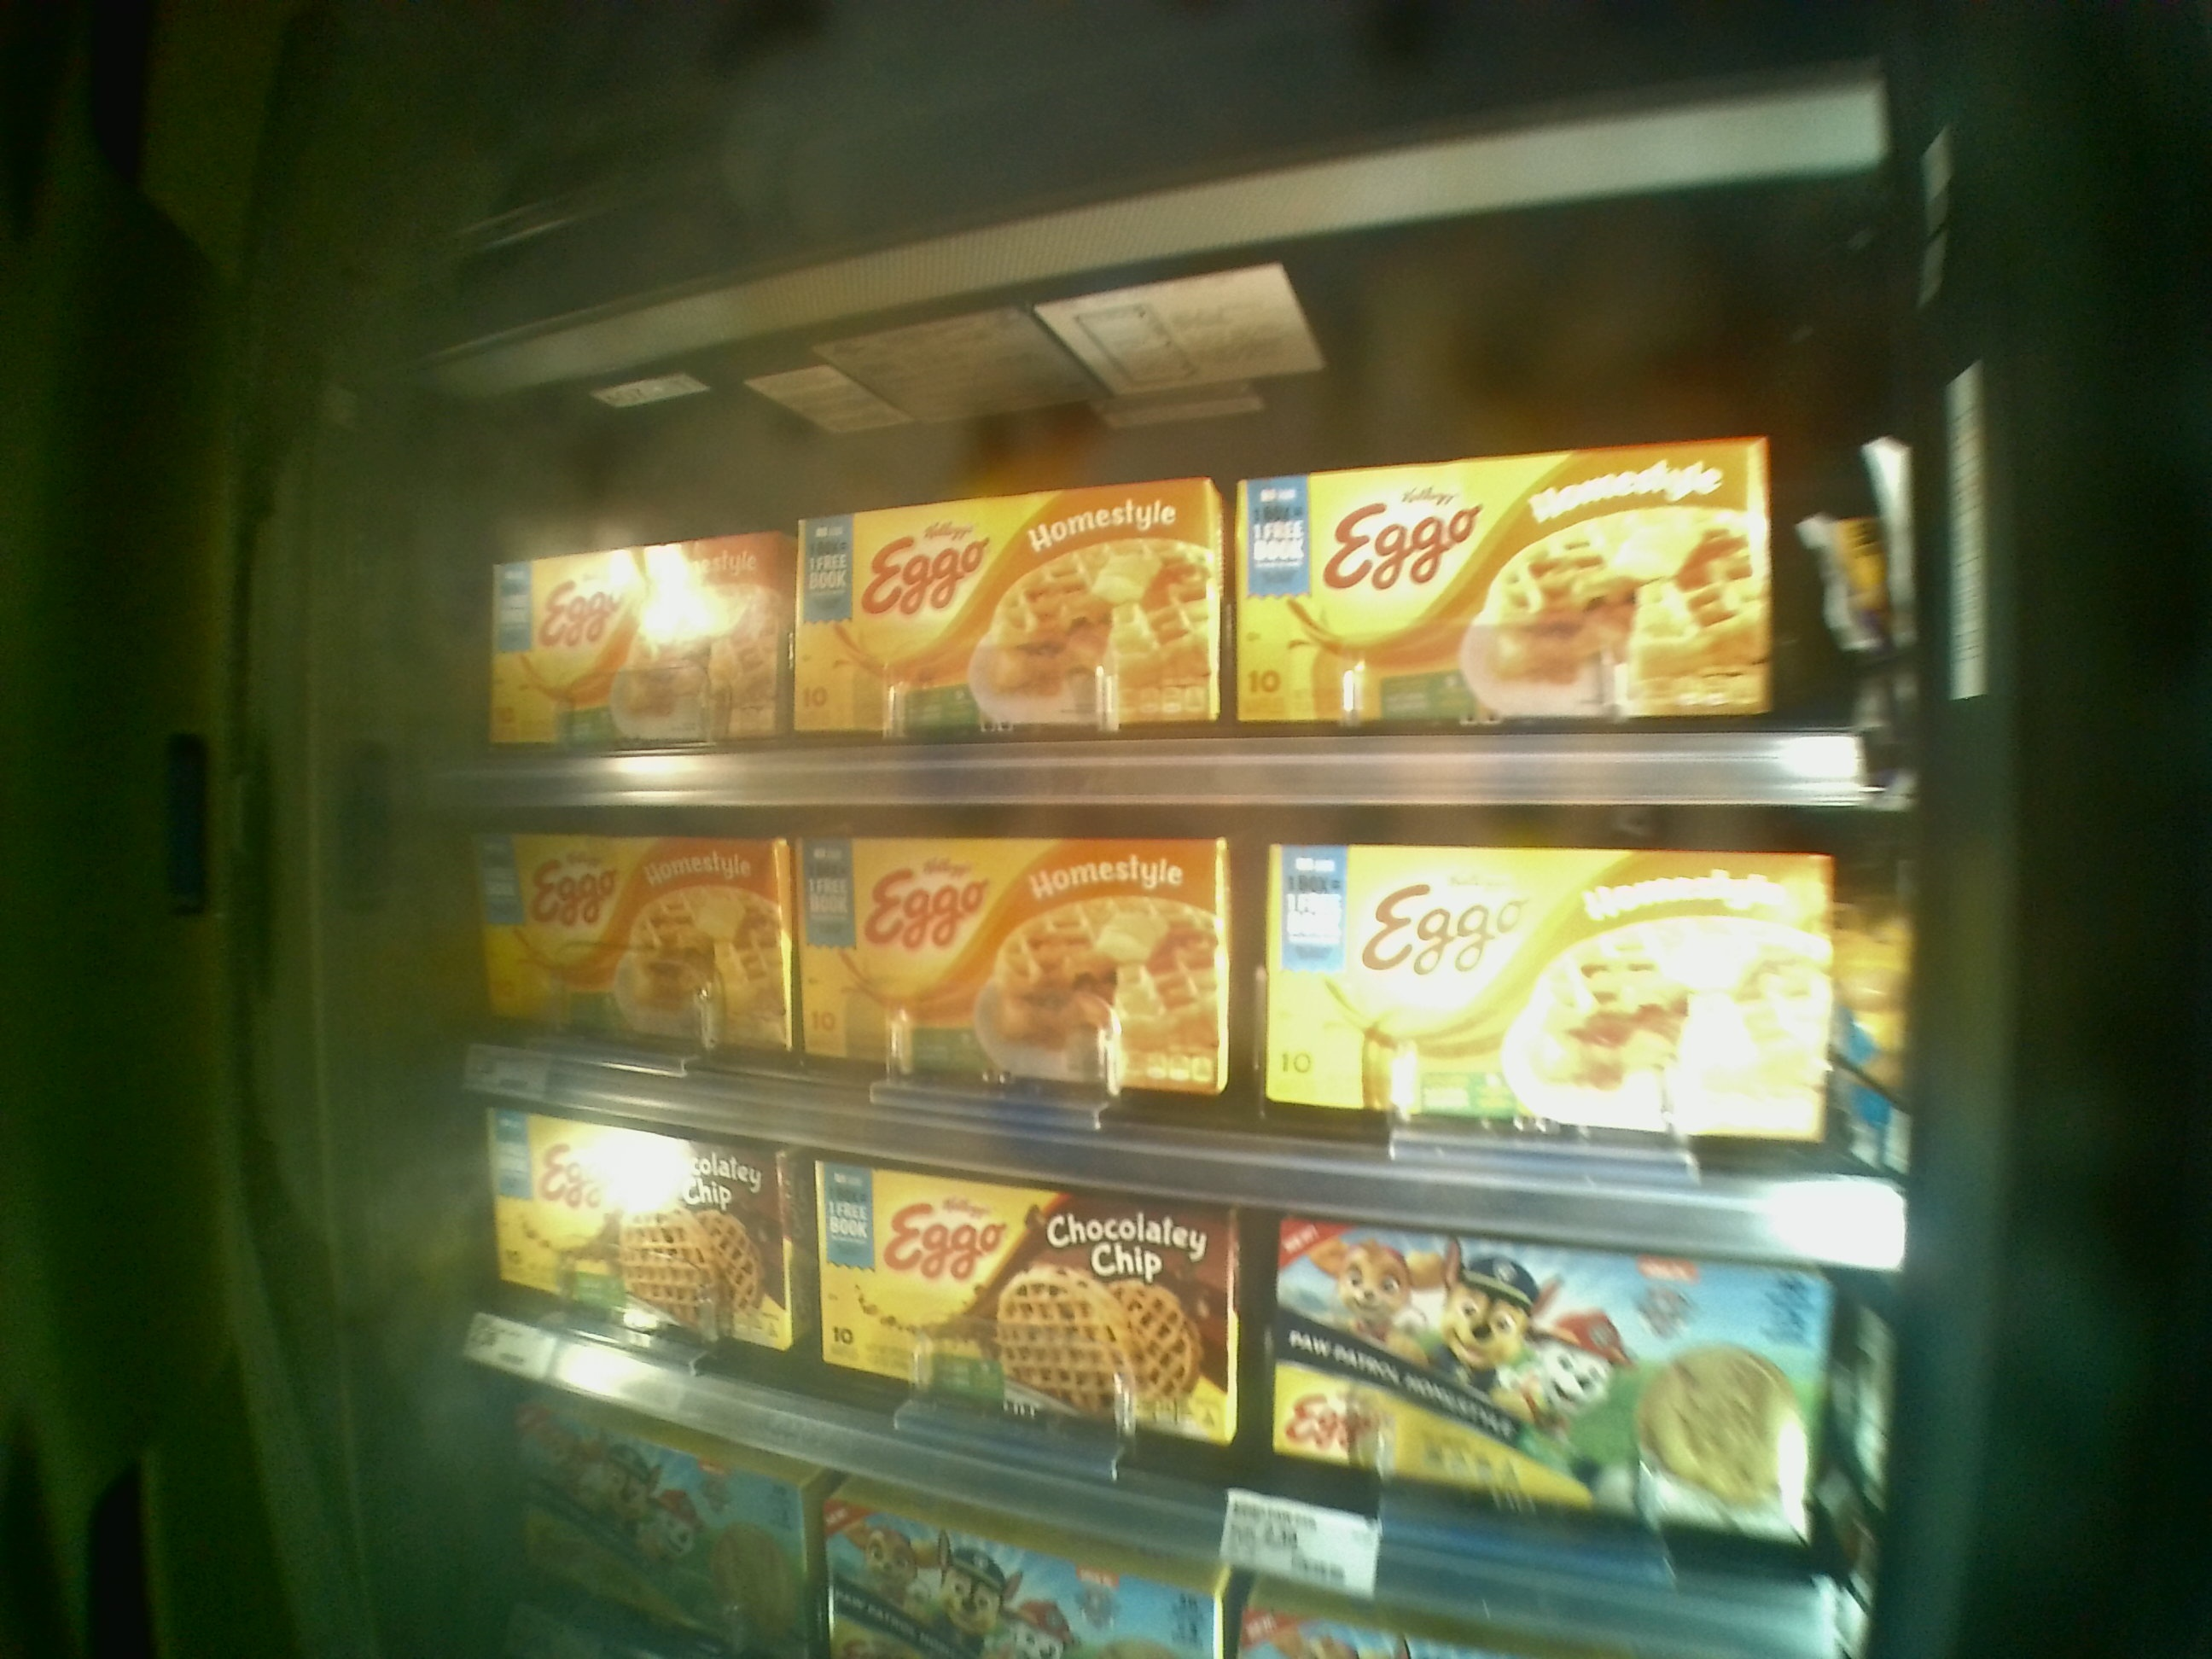shelf: (456, 779, 1952, 1260), (455, 430, 1912, 802)
